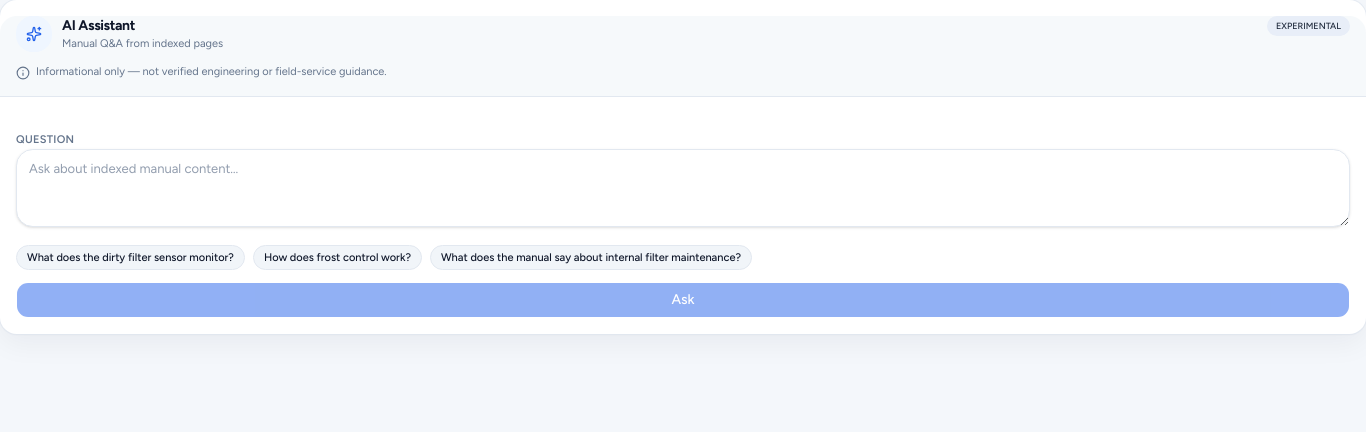
Test: AiAssistantCard › cancels waiting without claiming server stop
This screenshot has width=1366, height=432.
Type "Slow question" into the text box named "Assistant question". click: {"x": 683, "y": 188}
box: [16,149,1350,227]
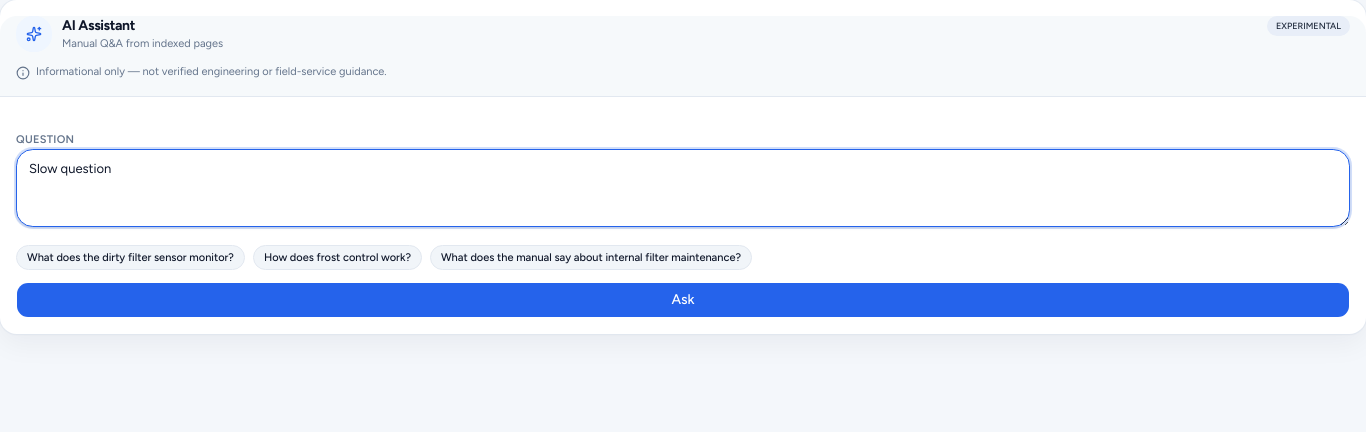
Click the button "Ask". click: {"x": 683, "y": 300}
box: [16,282,1350,318]
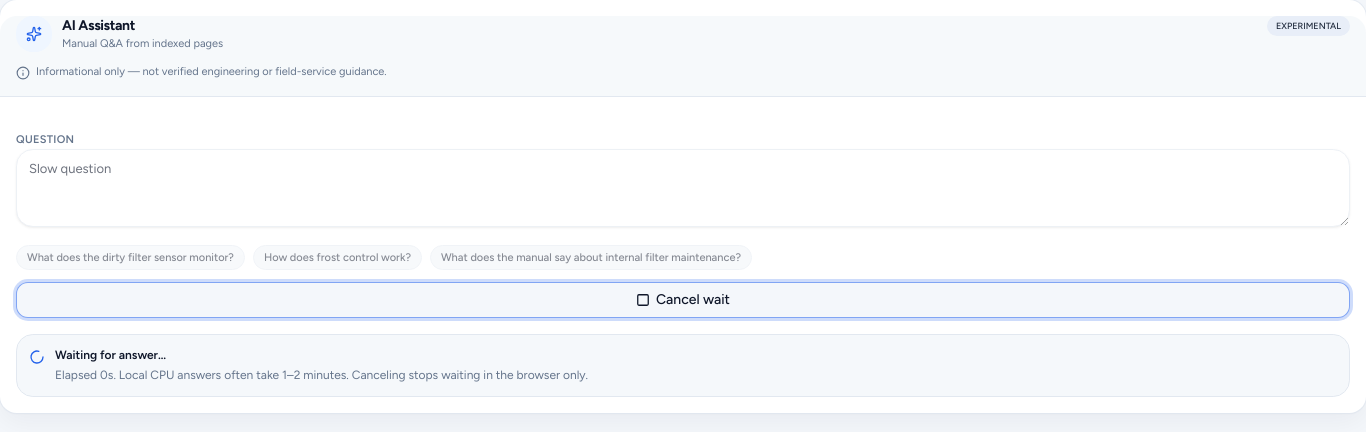
Click the button "Cancel wait". click: {"x": 683, "y": 300}
box: [16,282,1350,318]
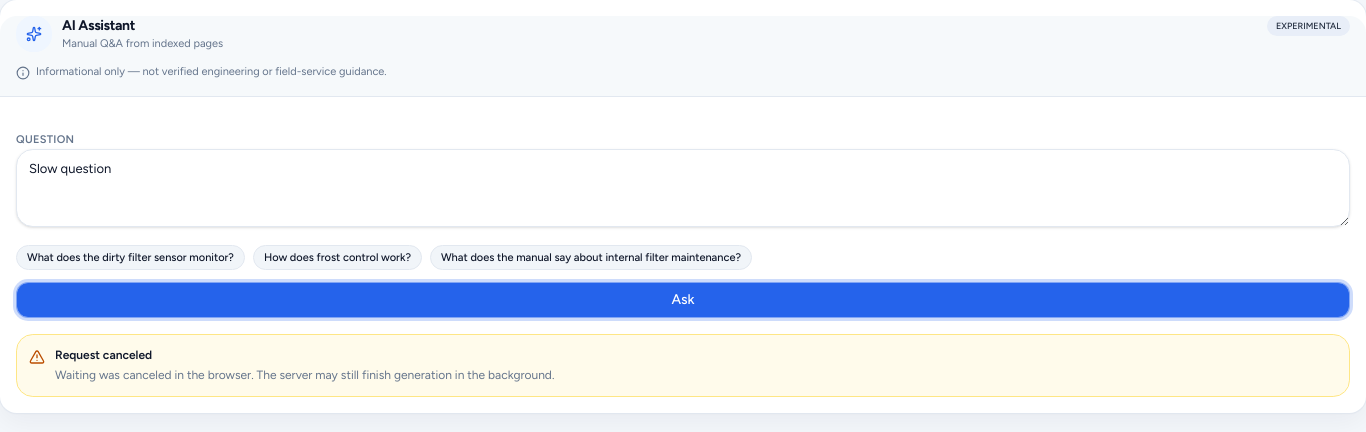
Expected: the message with test id "assistant-error" shows "Request canceled", [55,348,152,362]
Expected: the message with test id "assistant-error" shows "browser", [55,368,554,382]
